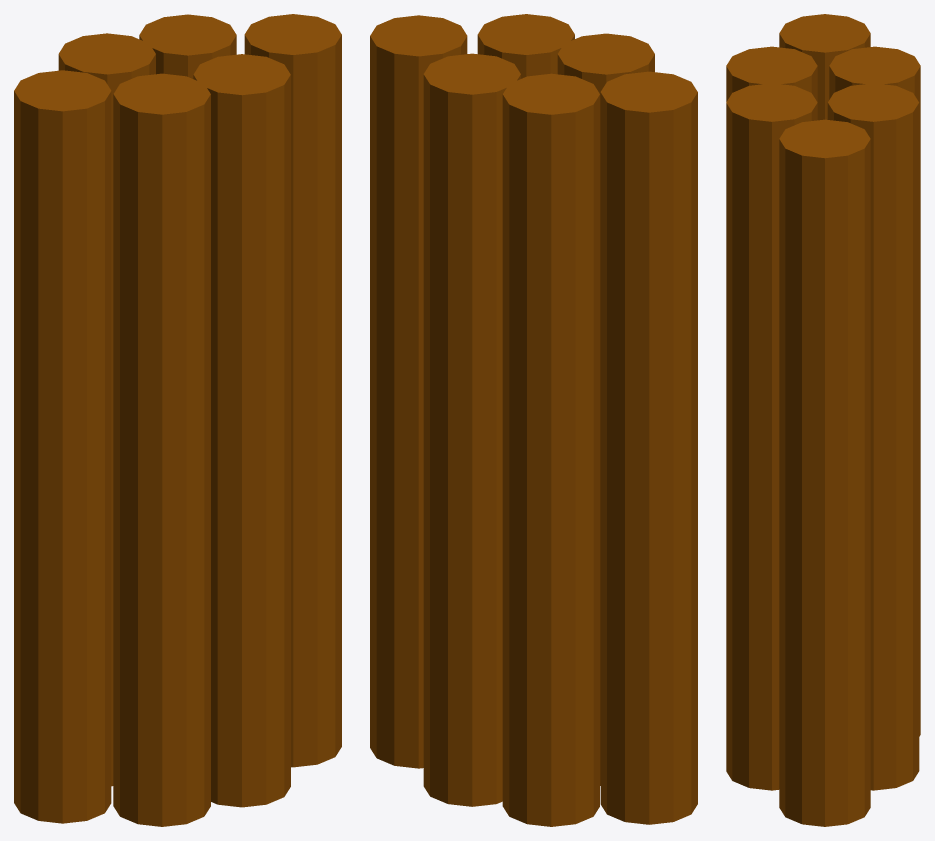
File: cylinders.fbx
3 views of the same model, side by side, from view 1: azimuth 30°, elevation 25°; view 2: azimuth 150°, elevation 25°; view 3: azimuth 270°, elevation 25° (orthographic). The views are drawn at different scales.
Parts seen in each view (by area): view 1: pCylinder7; view 2: pCylinder7; view 3: pCylinder7.
Boxes of the visible parts, bbox=[...] form: pCylinder7: bbox=[14, 14, 341, 826]; pCylinder7: bbox=[370, 14, 697, 826]; pCylinder7: bbox=[726, 14, 920, 826].
Bounding box in the file's own units: 0.2976 × 0.6434 × 0.1697.
